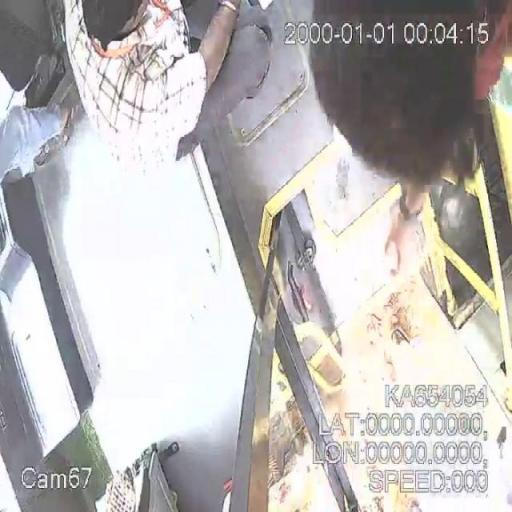persona: (60, 0, 242, 174)
